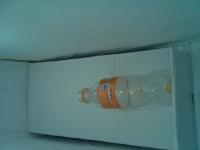bottle: (78, 71, 173, 110)
